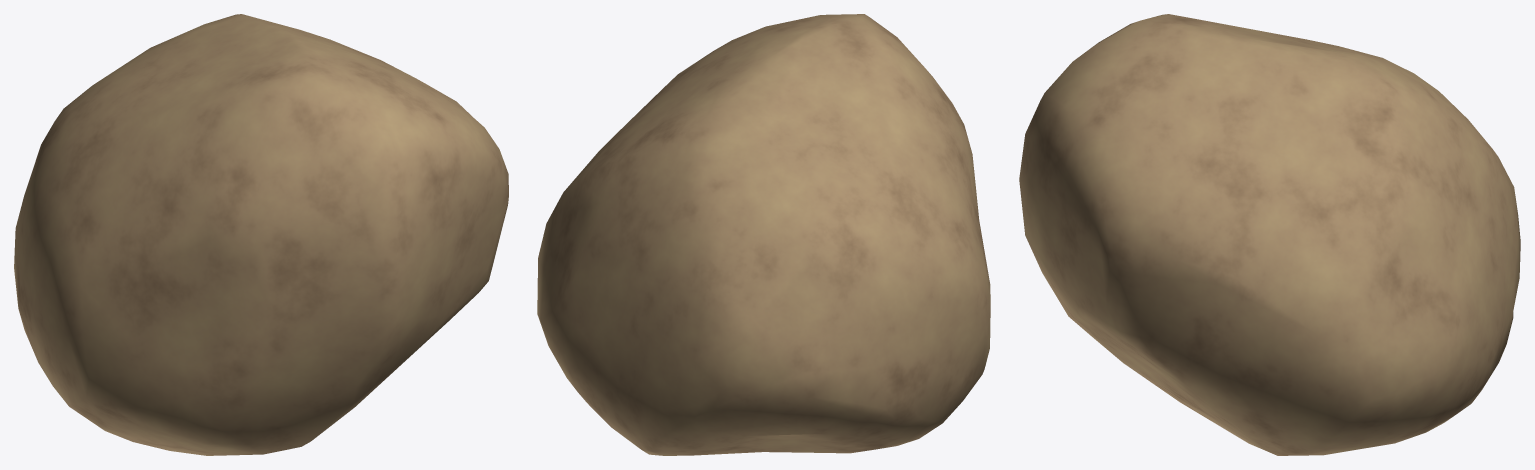
Rendered from Rock160x160x145.gltf.
3 views of the same model, side by side, from view 1: azimuth 30°, elevation 25°; view 2: azimuth 150°, elevation 25°; view 3: azimuth 270°, elevation 25° (orthographic). The views are drawn at different scales.
Parts seen in each view (by area): view 1: Stein 160x160x145LowPoly; view 2: Stein 160x160x145LowPoly; view 3: Stein 160x160x145LowPoly.
Part boxes in pixels (bbox=[...]): Stein 160x160x145LowPoly: bbox=[14, 14, 508, 455]; Stein 160x160x145LowPoly: bbox=[537, 14, 990, 455]; Stein 160x160x145LowPoly: bbox=[1019, 14, 1520, 455].
Size of the model in its own units: 1.6 by 1.45 by 1.67.
Materials: 1 (1 with a texture image).
